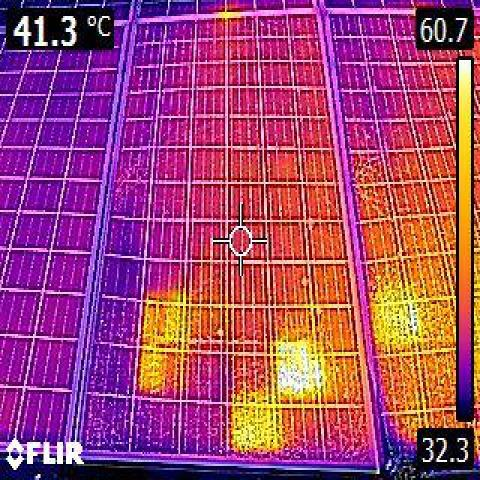fault: (274, 350, 324, 400), (372, 292, 410, 348), (234, 403, 271, 454), (144, 302, 180, 346), (139, 348, 163, 392)
